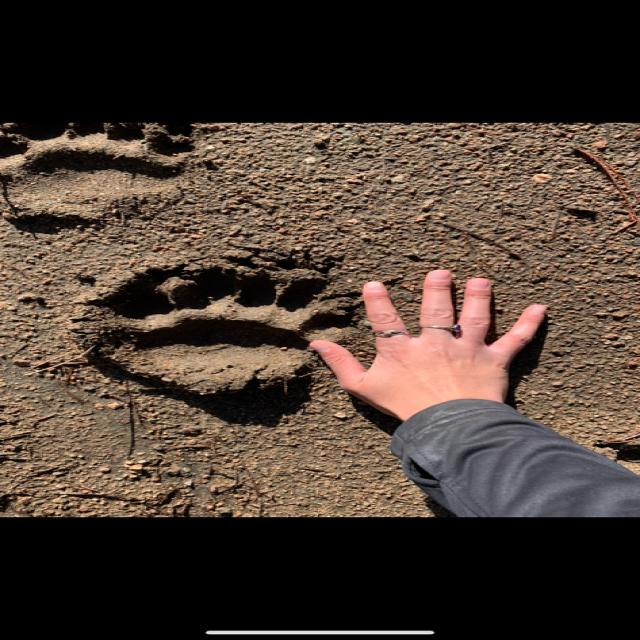bear: (100, 274, 341, 391)
